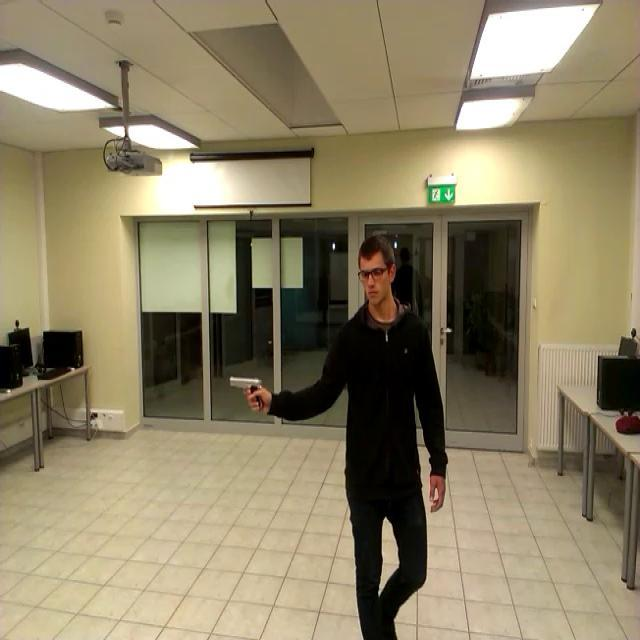Gun: (216, 362, 276, 425)
